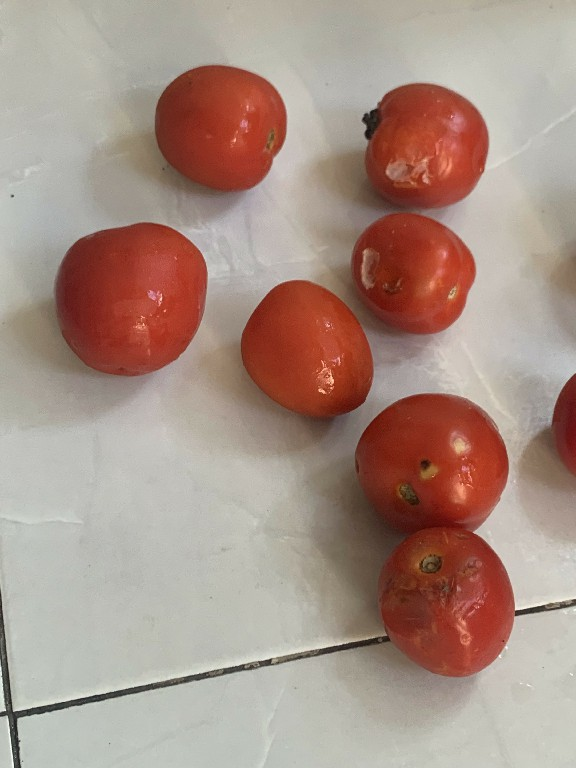NG: (362, 515, 524, 691), (346, 388, 516, 538), (352, 60, 511, 214), (337, 196, 485, 342)
OK: (45, 202, 219, 387), (233, 269, 384, 427), (146, 47, 292, 199)
